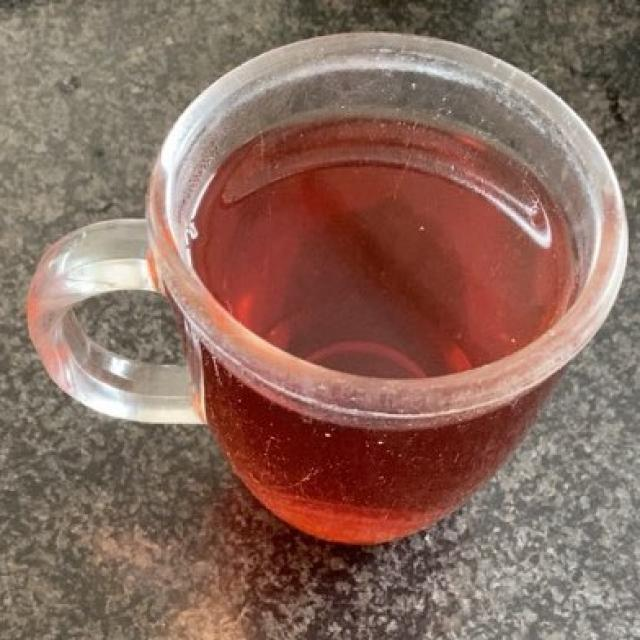tea: (175, 113, 582, 548), (191, 113, 582, 381), (190, 105, 569, 370), (188, 113, 580, 368), (196, 113, 571, 374), (195, 123, 579, 371), (206, 111, 569, 360)
